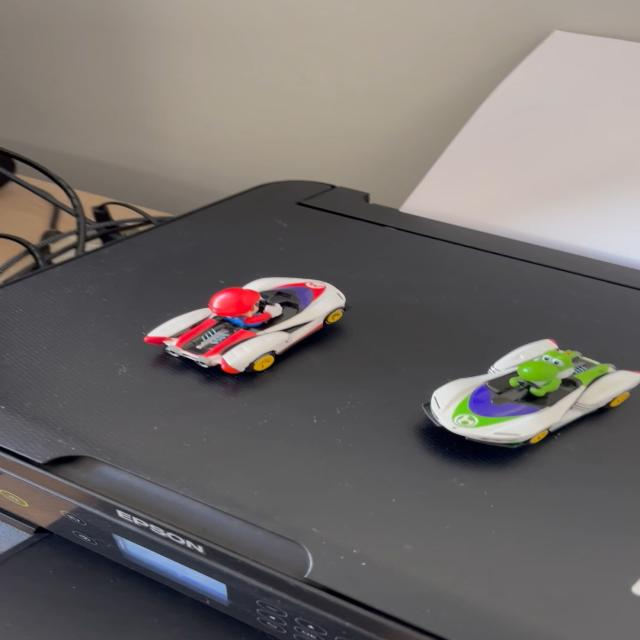mario: (131, 273, 365, 382)
yoshi: (412, 328, 640, 456)
